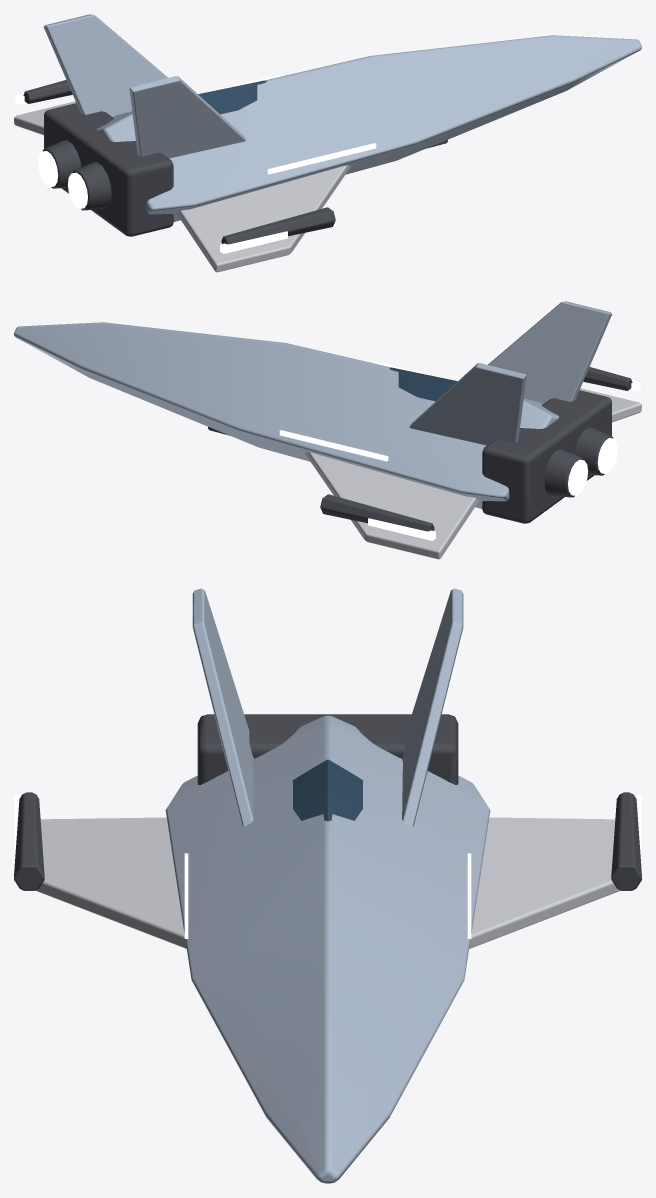
Rendered from angular_medium.glb.
The picture shows the model from 3 angles, top to bottom: view 1: azimuth 30°, elevation 25°; view 2: azimuth 150°, elevation 25°; view 3: azimuth 270°, elevation 25°; orthographic projection. The views are drawn at different scales.
Parts seen in each view (by area): view 1: angular_medium; view 2: angular_medium; view 3: angular_medium.
Part boxes in pixels (box(x1,y1,x2,y2)): angular_medium: box(14, 14, 641, 272); angular_medium: box(14, 301, 641, 559); angular_medium: box(14, 588, 641, 1183).
Size of the model in its own units: 1.5 by 0.4031 by 0.9372.
